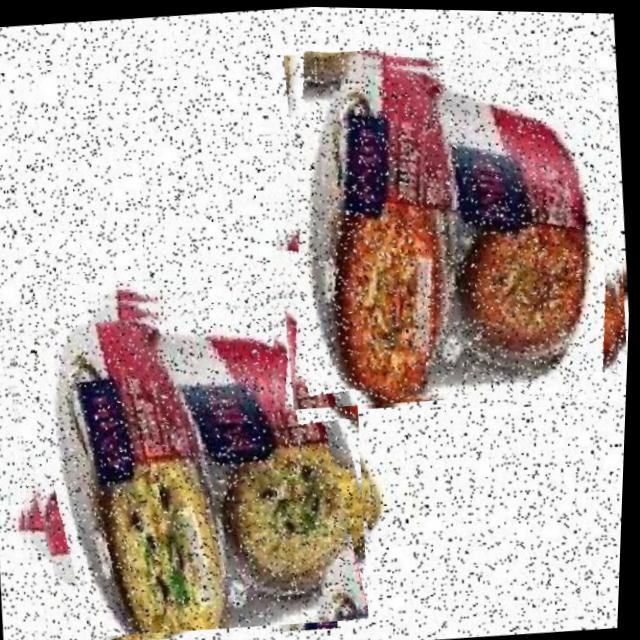Miscellaneous: (252, 29, 640, 414), (0, 265, 383, 640)
